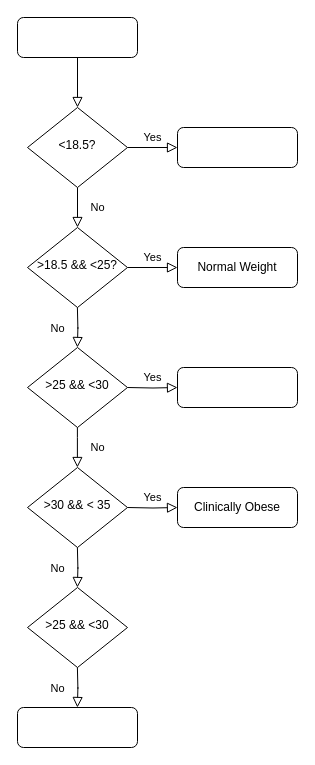
The diagram is 315 pixels wide and 765 high, and some of its shapes have lost their labels. The shapes that lost their labels are listed below. From the top down, each one's box as (x1, y1, x2, y2) in pixels, then its label:
(16, 16, 138, 58): bmi
(176, 126, 298, 168): Underweight
(176, 366, 298, 408): Overweight
(16, 706, 138, 748): End
